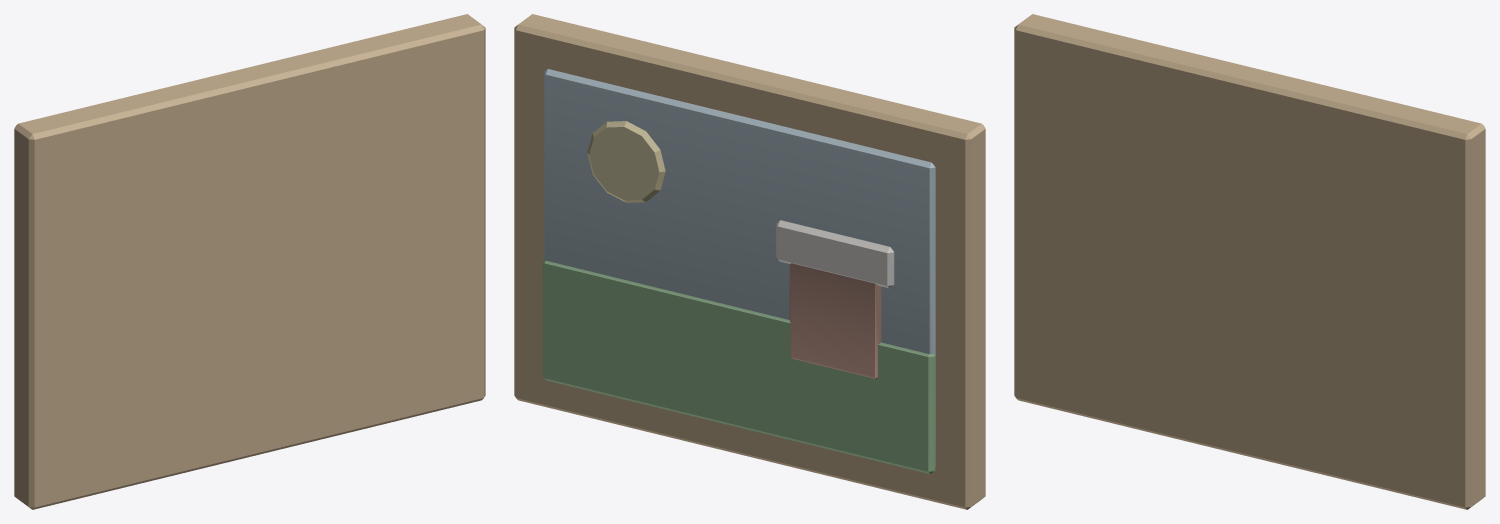
File: furn_picture_frame__oak.glb
3 renders of one model, left to right at view 1: azimuth 30°, elevation 25°; view 2: azimuth 150°, elevation 25°; view 3: azimuth 330°, elevation 25°, orthographic.
Bounding box in the file's own units: 0.7 × 0.55 × 0.066.
